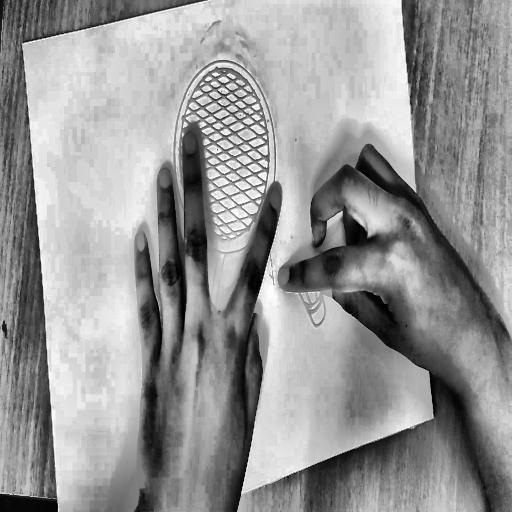badminton: (103, 27, 347, 486)
bottom_right: (430, 411, 437, 423)
top_left: (20, 40, 26, 50)
